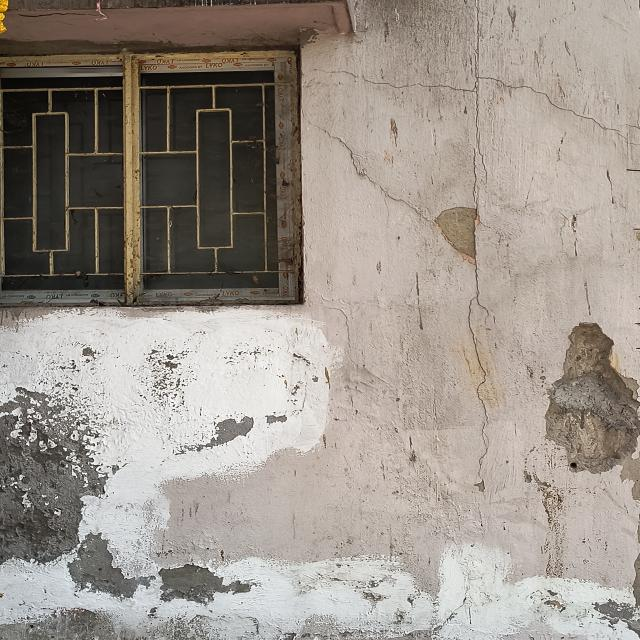Crack: (328, 0, 500, 480), (314, 62, 640, 177), (594, 600, 640, 635)
Scaling: (0, 388, 106, 562), (546, 323, 640, 473), (68, 522, 158, 600), (0, 610, 130, 640), (159, 565, 251, 604), (204, 416, 254, 447)
